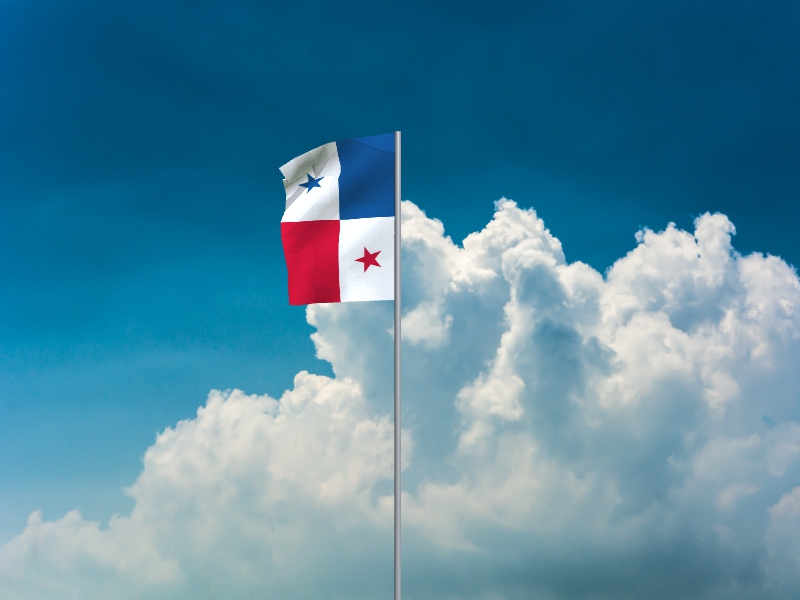pa: (279, 133, 395, 306)
